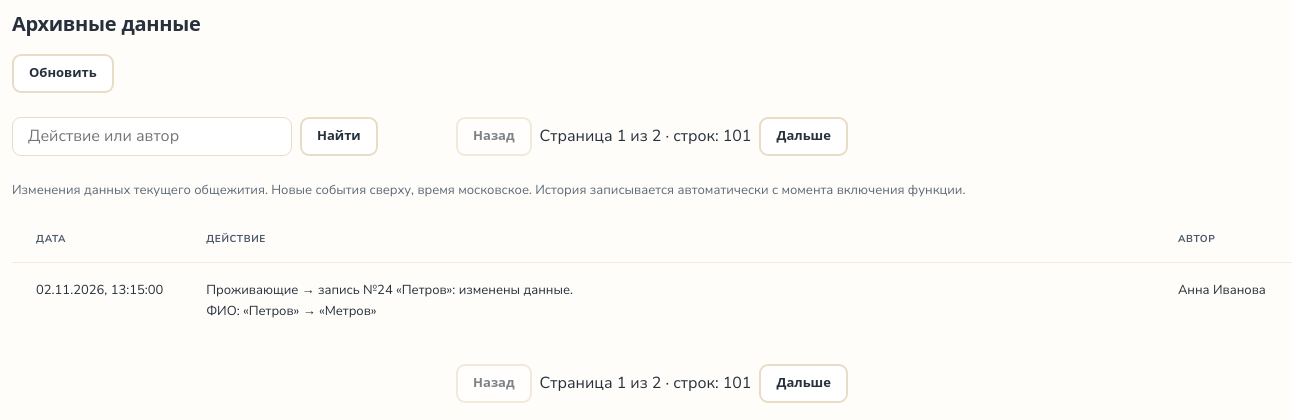
Test: Подвкладка типа Архив › синхронизирует страницы над и под таблицей и обновляет историю с начала
Check: the button "Найти" is enabled, box x1=300 y1=117 x2=378 y2=156
Click the 2nd button "Дальше" at (804, 383), box x1=760 y1=364 x2=848 y2=403
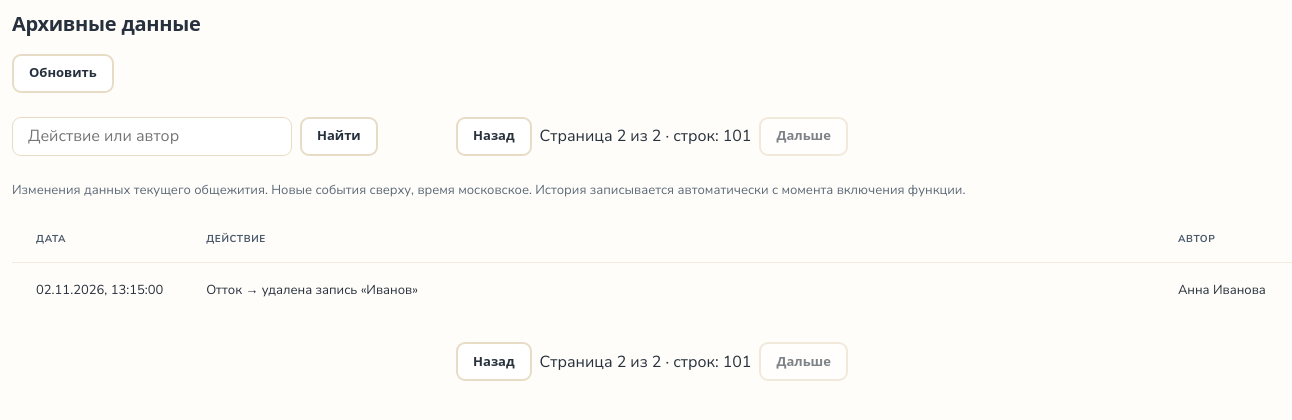
Check: the text "Отток → удалена запись «Иванов»" is shown, box x1=186 y1=262 x2=1158 y2=318
Check: the text "ФИО: «Петров» → «Метров»" is gone
Check: the navigation bar named "Страницы таблицы сверху" shows "Страница 2 из 2", box x1=456 y1=117 x2=848 y2=156
Click the 1st button "Назад" at (494, 136), box x1=456 y1=117 x2=532 y2=156
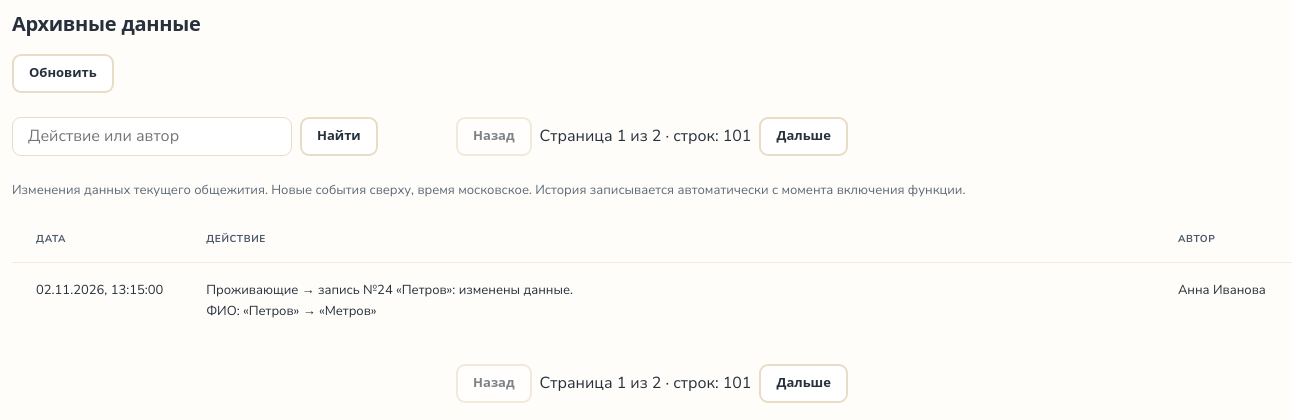
Check: the text "ФИО: «Петров» → «Метров»" is shown, box x1=206 y1=281 x2=573 y2=320
Check: the navigation bar named "Страницы таблицы сверху" shows "Страница 1 из 2", box x1=456 y1=117 x2=848 y2=156
Check: the navigation bar named "Страницы таблицы снизу" shows "Страница 1 из 2", box x1=456 y1=364 x2=848 y2=403
Click the button "Обновить" at (63, 74), box x1=12 y1=54 x2=114 y2=93
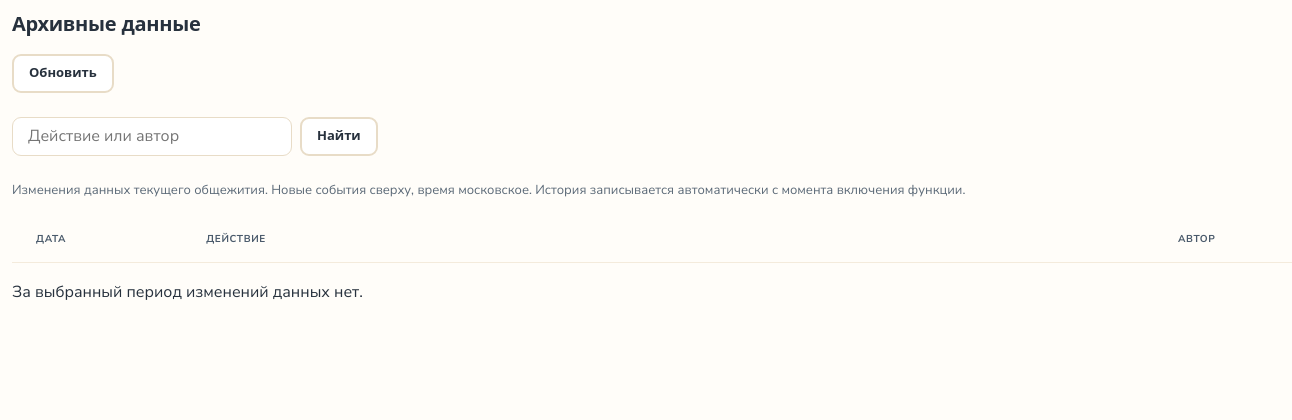
Check: the text "За выбранный период изменений данных нет." is shown, box x1=12 y1=281 x2=363 y2=303
